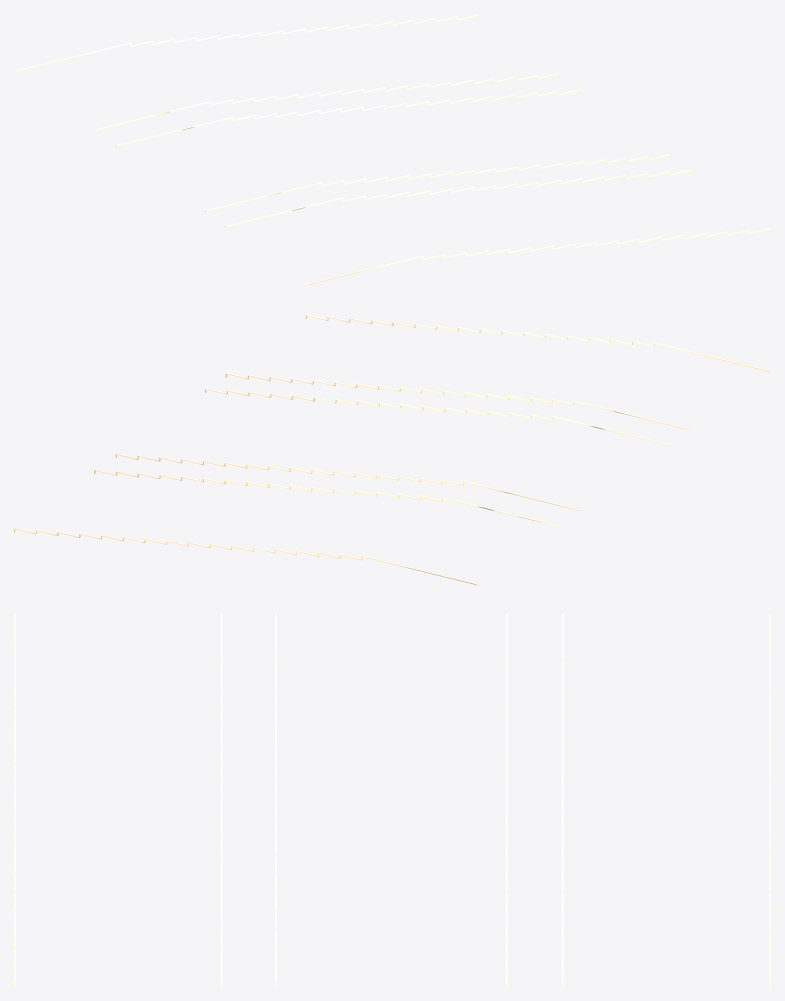
The picture shows the model from 3 angles, top to bottom: view 1: azimuth 30°, elevation 25°; view 2: azimuth 150°, elevation 25°; view 3: azimuth 270°, elevation 25°; orthographic projection. The views are drawn at different scales.
Parts seen in each view (by area): view 1: 室内-台阶衬边; view 2: 室内-台阶衬边; view 3: 室内-台阶衬边.
Part boxes in pixels (x1,y1,x2,y2): 室内-台阶衬边: (14,14,770,285); 室内-台阶衬边: (14,314,770,585); 室内-台阶衬边: (14,614,770,986).
Bounding box in the file's own units: 19.25 × 2.43 × 20.98.
